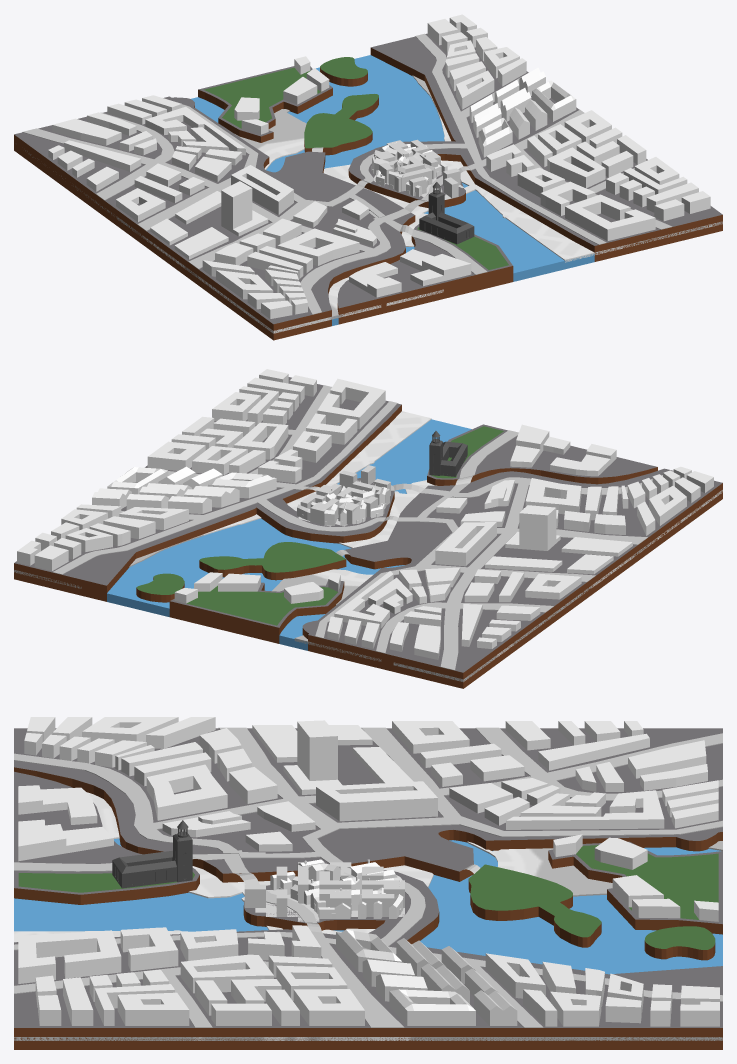
Rendered from City_miniature.gltf.
3 renders of one model, top to bottom at view 1: azimuth 30°, elevation 25°; view 2: azimuth 150°, elevation 25°; view 3: azimuth 270°, elevation 25°, orthographic. The views are drawn at different scales.
Visible parts, largest first — view 1: Plane.003, Plane, Plane.045, Plane.002, Plane.082, Plane.077, Plane.085, Plane.073, Cylinder, Plane_001, Plane.031, Plane.052 (+39 smaller); view 2: Plane.003, Plane, Plane.002, Plane.045, Plane.073, Plane.077, Plane_001, Plane.085, Plane.082, Plane.052, Plane.086, Cylinder (+38 smaller); view 3: Plane.003, Plane, Plane.002, Plane.045, Plane.073, Plane_001, Plane.052, Plane.082, Plane.077, Cylinder, Plane.021, Plane.085 (+70 smaller).
Boxes of the visible parts, bbox=[...] form: Plane.003: bbox=[14, 33, 722, 340]; Plane: bbox=[25, 75, 722, 333]; Plane.045: bbox=[565, 194, 655, 241]; Plane.002: bbox=[373, 139, 463, 199]; Plane.082: bbox=[277, 228, 359, 265]; Plane.077: bbox=[221, 181, 268, 236]; Plane.085: bbox=[400, 249, 471, 286]; Plane.073: bbox=[231, 165, 293, 214]; Cylinder: bbox=[419, 182, 474, 244]; Plane_001: bbox=[48, 142, 447, 196]; Plane.031: bbox=[547, 147, 605, 188]; Plane.052: bbox=[145, 106, 245, 155]; Plane.003: bbox=[14, 377, 722, 688]; Plane: bbox=[14, 411, 722, 682]; Plane.002: bbox=[298, 465, 390, 526]; Plane.045: bbox=[317, 378, 385, 429]; Plane.073: bbox=[435, 522, 496, 566]; Plane.077: bbox=[505, 505, 560, 550]; Plane_001: bbox=[297, 484, 496, 648]; Plane.085: bbox=[510, 424, 570, 467]; Plane.082: bbox=[525, 478, 581, 514]; Plane.052: bbox=[334, 571, 393, 628]; Plane.086: bbox=[550, 444, 616, 476]; Cylinder: bbox=[429, 431, 467, 476]; Plane.003: bbox=[14, 727, 722, 1049]; Plane: bbox=[14, 792, 722, 1040]; Plane.002: bbox=[244, 862, 404, 921]; Plane.045: bbox=[18, 930, 121, 983]; Plane.073: bbox=[316, 781, 437, 821]; Plane_001: bbox=[270, 721, 643, 918]; Plane.052: bbox=[506, 790, 664, 829]; Plane.082: bbox=[146, 764, 227, 820]; Plane.077: bbox=[283, 720, 342, 794]; Cylinder: bbox=[112, 820, 192, 888]; Plane.021: bbox=[389, 989, 475, 1025]; Plane.085: bbox=[18, 819, 113, 861].
Size of the model in its own units: 20 by 2.5 by 20.
Materials: 9 (1 with a texture image).
